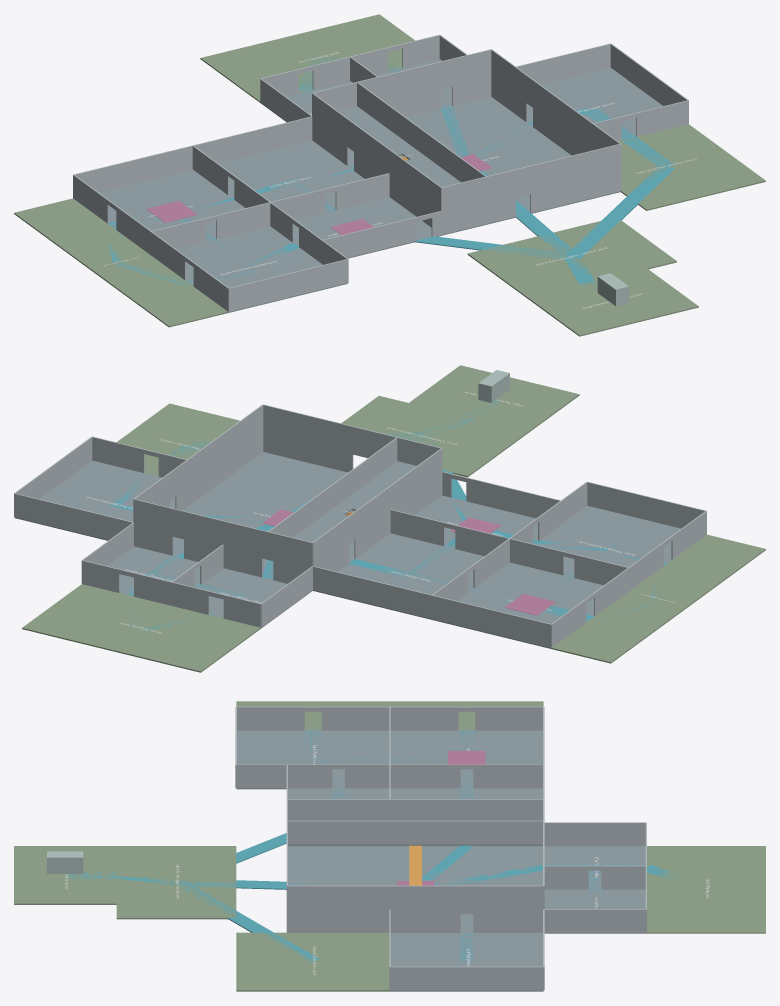
File: rough-shell.glb
The picture shows the model from 3 angles, top to bottom: view 1: azimuth 30°, elevation 25°; view 2: azimuth 150°, elevation 25°; view 3: azimuth 270°, elevation 25°; orthographic projection.
Visible parts, largest first — view 1: Floor forest, Floor entry, Floor dock, Floor side-yard, Floor processing, Floor stage, Floor bunk, Floor boiler, Floor mess, Wall processing S.001, Floor cold, Wall processing S (+45 smaller); view 2: Floor dock, Floor forest, Floor processing, Floor entry, Floor stage, Floor bunk, Floor boiler, Floor mess, Wall processing S.001, Wall processing E.001, Floor cold, Floor side-yard (+42 smaller); view 3: Floor dock, Floor processing, Floor side-yard, Floor entry, Wall processing E.001, Wall gallery E, Floor bunk, Floor cold, Floor stage, Floor mess, Wall processing W.001, Wall cold E (+31 smaller).
Boxes of the visible parts, x1=… form: Floor forest: x1=14, y1=198, x2=228, y2=327; Floor entry: x1=467, y1=220, x2=676, y2=298; Floor dock: x1=200, y1=14, x2=414, y2=102; Floor side-yard: x1=618, y1=124, x2=765, y2=210; Floor processing: x1=348, y1=96, x2=620, y2=235; Floor stage: x1=528, y1=268, x2=698, y2=336; Floor bunk: x1=176, y1=226, x2=347, y2=312; Floor boiler: x1=218, y1=140, x2=364, y2=212; Floor mess: x1=99, y1=169, x2=245, y2=241; Wall processing S.001: x1=530, y1=144, x2=620, y2=212; Floor cold: x1=527, y1=67, x2=662, y2=139; Wall processing S: x1=441, y1=169, x2=515, y2=234; Floor dock: x1=22, y1=584, x2=260, y2=672; Floor forest: x1=551, y1=534, x2=765, y2=663; Floor processing: x1=173, y1=452, x2=354, y2=579; Floor entry: x1=341, y1=396, x2=527, y2=477; Floor stage: x1=409, y1=365, x2=579, y2=432; Floor bunk: x1=534, y1=505, x2=680, y2=577; Floor boiler: x1=312, y1=533, x2=483, y2=619; Floor mess: x1=432, y1=562, x2=603, y2=648; Wall processing S.001: x1=263, y1=404, x2=353, y2=472; Wall processing E.001: x1=175, y1=404, x2=263, y2=510; Floor cold: x1=14, y1=460, x2=175, y2=540; Floor side-yard: x1=117, y1=403, x2=239, y2=476; Floor dock: x1=646, y1=846, x2=765, y2=933; Floor processing: x1=288, y1=846, x2=542, y2=932; Floor side-yard: x1=236, y1=932, x2=389, y2=991; Floor entry: x1=116, y1=846, x2=236, y2=919; Wall processing E.001: x1=287, y1=885, x2=460, y2=932; Wall gallery E: x1=287, y1=820, x2=543, y2=844; Floor bunk: x1=236, y1=730, x2=389, y2=789; Floor cold: x1=390, y1=932, x2=543, y2=991; Floor stage: x1=14, y1=846, x2=116, y2=904; Floor mess: x1=390, y1=730, x2=542, y2=787; Wall processing W.001: x1=287, y1=799, x2=460, y2=846; Wall cold E: x1=390, y1=966, x2=543, y2=990.
Size of the model in its own units: 80.08 by 6.16 by 88.
